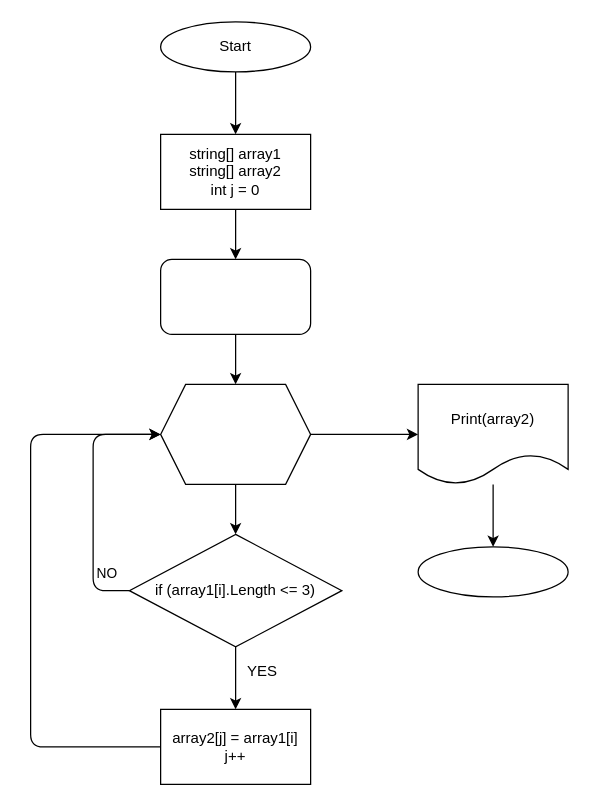
The diagram is 590 pixels wide and 806 high, and some of its shapes have lost their labels. Here are the shapes that lost their labels. From the top down, the centre of each, then its label:
[235,296]: void threeSymbols
[235,433]: for int i = 0; i < array1.Length: i++
[492,571]: End
